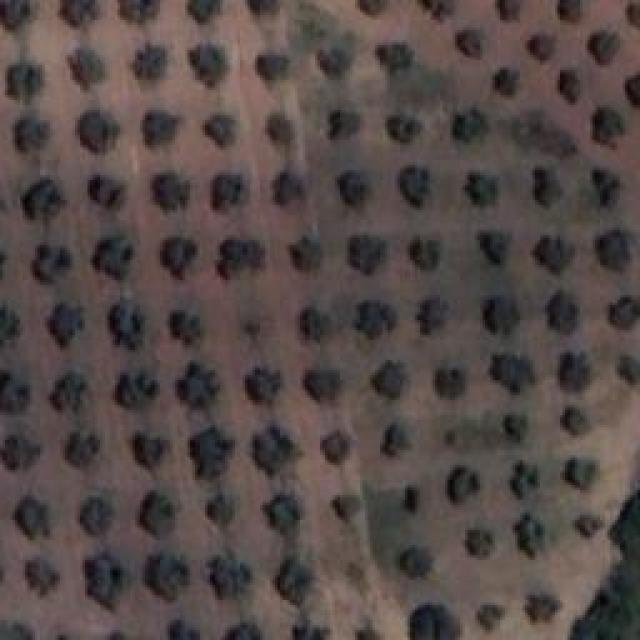Tree: (83, 550, 133, 619), (143, 555, 188, 615), (190, 423, 237, 479), (90, 235, 142, 284), (220, 240, 273, 288), (203, 555, 247, 612), (140, 100, 183, 158), (253, 423, 299, 475), (105, 303, 150, 355), (128, 430, 174, 479), (188, 40, 235, 87), (583, 100, 632, 145), (130, 38, 174, 88), (7, 58, 48, 110), (175, 358, 218, 406), (557, 350, 595, 404), (445, 458, 481, 514), (300, 305, 338, 358), (132, 488, 171, 539), (510, 458, 548, 510), (210, 173, 254, 217), (115, 368, 158, 413), (343, 235, 389, 277), (200, 100, 240, 148), (275, 563, 315, 611), (402, 607, 459, 640), (50, 372, 93, 415), (75, 492, 118, 535), (532, 230, 573, 274), (320, 425, 360, 470), (355, 298, 395, 343), (25, 558, 64, 604), (563, 455, 607, 495), (78, 107, 123, 146), (162, 310, 204, 351), (375, 40, 418, 80), (525, 587, 568, 627), (88, 170, 125, 216), (48, 303, 84, 350), (30, 245, 71, 286), (545, 292, 586, 333), (610, 493, 640, 549), (157, 237, 196, 280), (7, 432, 45, 476), (147, 173, 185, 217), (10, 117, 49, 159), (512, 515, 551, 557), (23, 175, 57, 223), (396, 162, 434, 204), (595, 230, 633, 272), (258, 50, 302, 86), (335, 168, 371, 212), (420, 295, 455, 339), (520, 25, 558, 65), (488, 292, 525, 333), (245, 365, 281, 407), (200, 494, 244, 528), (500, 407, 534, 450), (63, 431, 107, 464), (387, 110, 426, 147), (585, 170, 624, 207), (0, 368, 29, 417), (413, 230, 445, 274), (372, 361, 410, 398), (468, 522, 501, 564), (68, 50, 105, 87), (404, 482, 436, 524), (573, 508, 610, 544), (450, 105, 487, 141), (18, 493, 48, 537), (483, 225, 516, 265), (495, 350, 531, 385), (268, 495, 305, 529), (588, 30, 622, 67), (60, 0, 100, 31), (117, 0, 161, 28), (433, 362, 463, 403), (0, 0, 36, 34), (328, 108, 363, 142), (318, 43, 353, 77), (474, 600, 508, 635), (463, 174, 498, 208), (555, 410, 593, 441), (530, 162, 558, 204), (330, 490, 362, 525), (613, 355, 640, 396), (560, 63, 585, 107), (400, 545, 436, 575), (275, 175, 305, 210), (308, 368, 337, 404), (495, 67, 519, 108), (290, 240, 320, 272), (0, 305, 22, 348), (610, 298, 637, 333), (188, 0, 228, 23), (380, 428, 407, 462), (555, 0, 585, 30), (268, 113, 297, 143), (460, 28, 485, 57), (420, 0, 455, 20), (623, 0, 640, 38), (492, 0, 533, 15), (623, 78, 640, 107), (362, 0, 391, 15)
